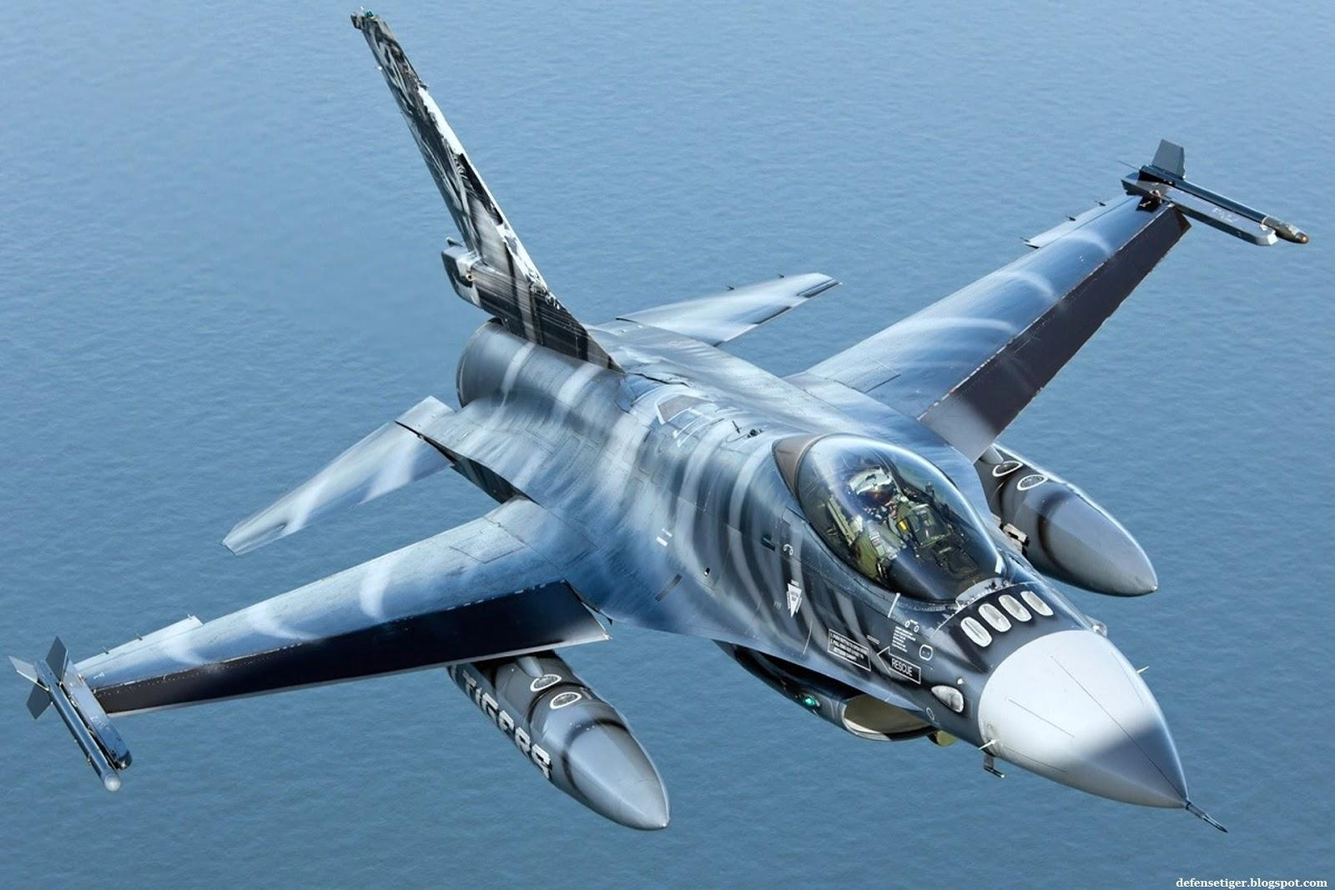aircraft: (4, 11, 1232, 842)
